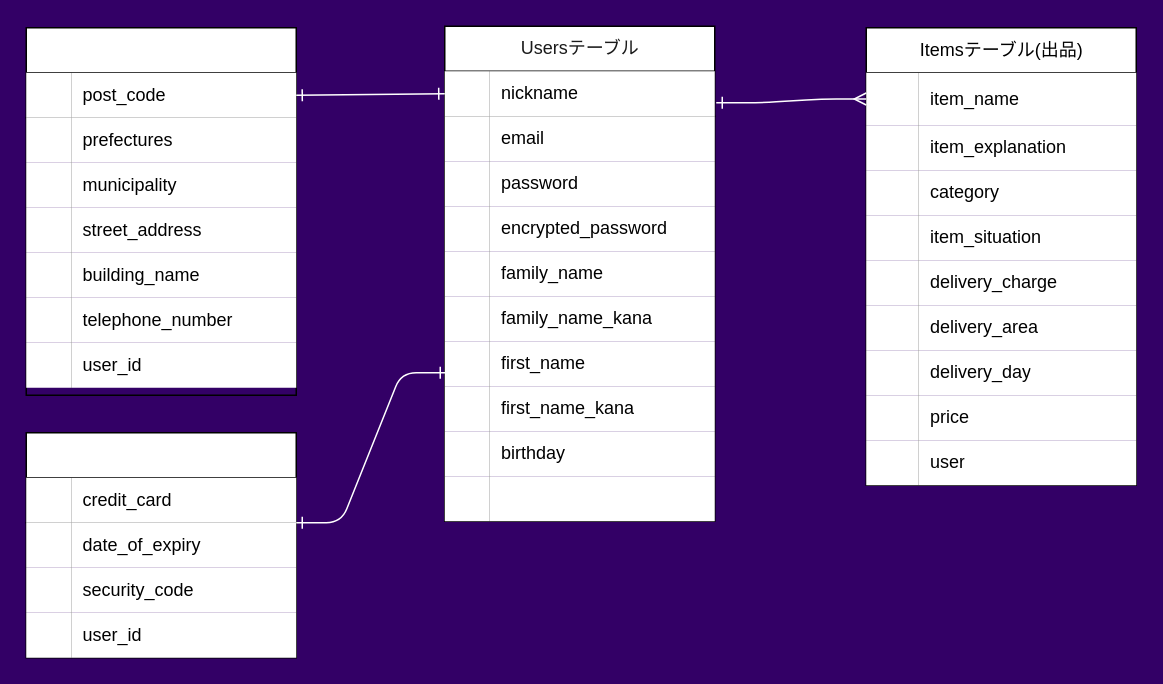
The diagram is 1163 pixels wide and 684 high, and some of its shapes have lost their labels. The box of each missing label's shape, as (x1, y1, x2, y2) in pixels:
Addressテーブル: (25, 26, 296, 395)
Ordersテーブル: (25, 431, 296, 658)
